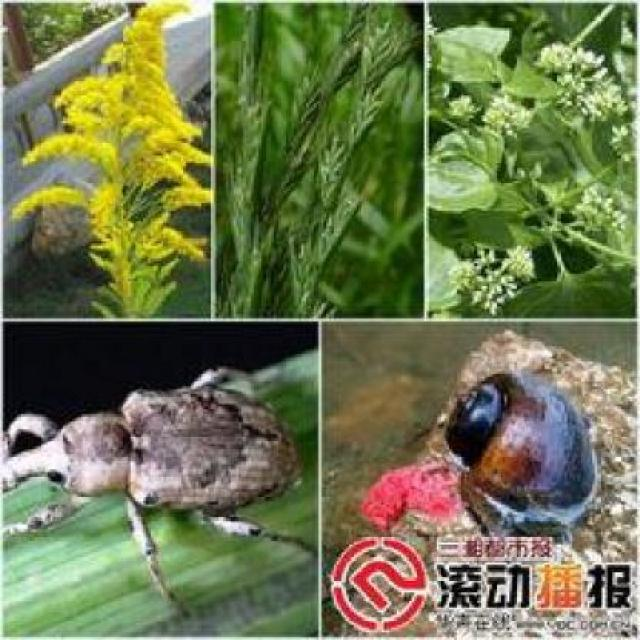rice-bug: (1, 366, 302, 551)
